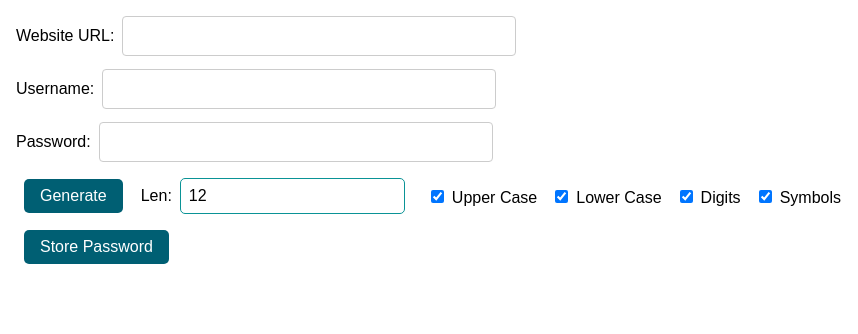
Test: StorePasswordForm › generate password success
Step 1. Click the button "Generate" → click(73, 196), box [24,179,123,213]
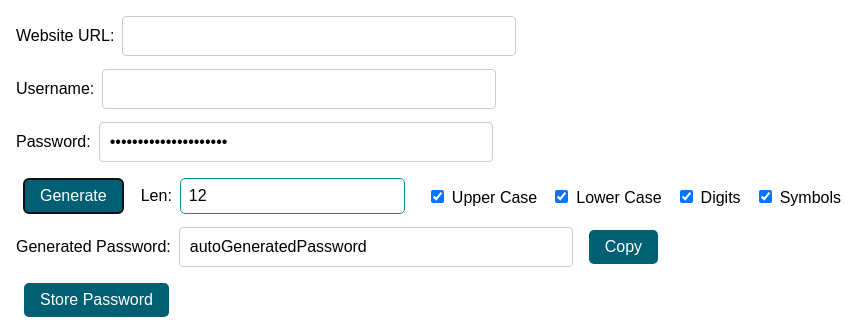
Check: the field with test id "generated-password-display" holds "autoGeneratedPassword", box [179,227,573,267]
